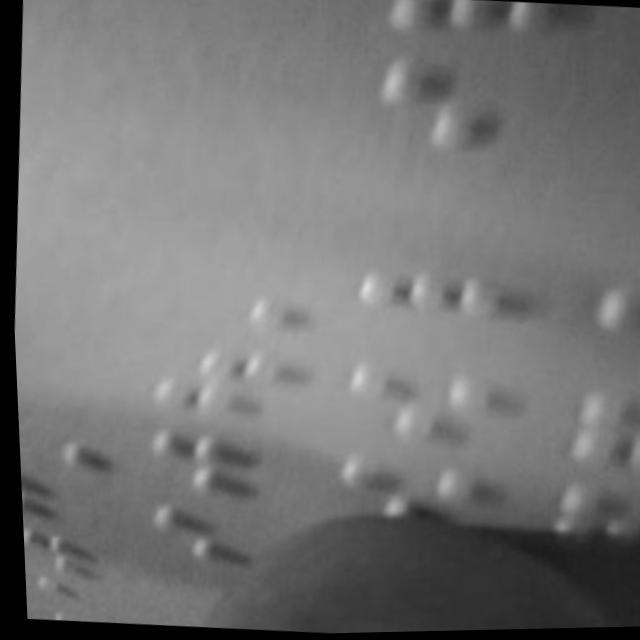braiile: (330, 353, 508, 456), (367, 57, 545, 158), (129, 418, 293, 509), (122, 333, 288, 422), (342, 266, 502, 357), (378, 0, 556, 54), (554, 387, 640, 485), (575, 284, 640, 390)
